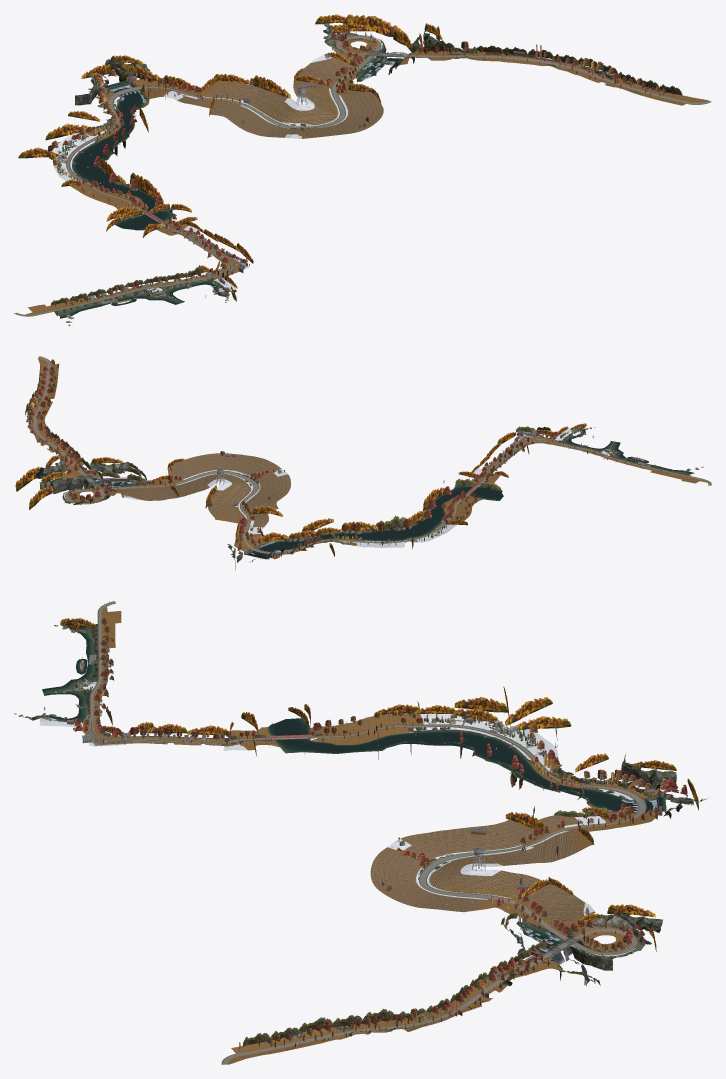
The model's file is region10_rural.glb.
3 views of the same model, one above another, from view 1: azimuth 30°, elevation 25°; view 2: azimuth 150°, elevation 25°; view 3: azimuth 270°, elevation 25° (orthographic). The views are drawn at different scales.
Visible parts, largest first — view 1: StaticMesh/region10_env/environment_background_downres/Merge (×6); view 2: StaticMesh/region10_env/environment_background_downres/Merge (×7); view 3: StaticMesh/region10_env/environment_background_downres/Merge (×13).
Boxes of the visible parts, <box> form: StaticMesh/region10_env/environment_background_downres/Merge (×6): <box>211,58,381,135</box>; StaticMesh/region10_env/environment_background_downres/Merge (×7): <box>89,453,429,540</box>; StaticMesh/region10_env/environment_background_downres/Merge (×13): <box>273,689,663,951</box>.
Size of the model in its own units: 3857 by 208 by 2449.
21 materials, 21 textured.
